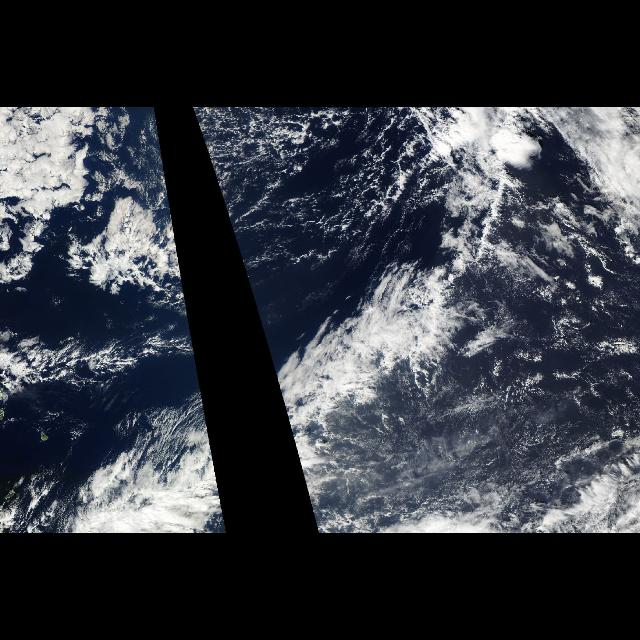Fish: (262, 225, 456, 518), (124, 324, 226, 518)
Gravel: (197, 108, 426, 255)
Sugar: (386, 382, 588, 516)
